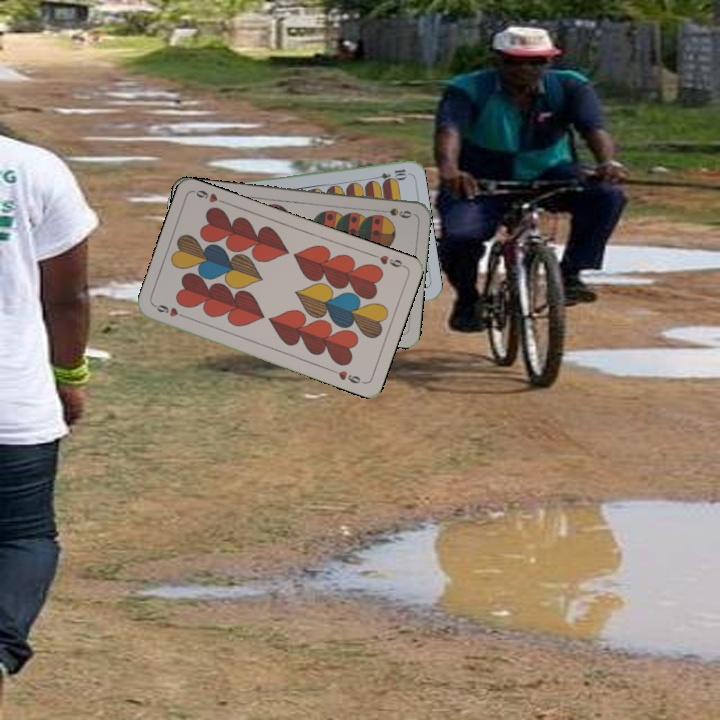E10: (369, 165, 409, 183)
H9: (150, 301, 190, 321), (369, 250, 408, 270)
S9: (375, 204, 414, 221)
